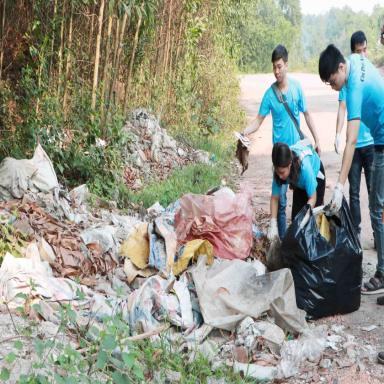plasticbag: (0, 153, 374, 384), (275, 188, 366, 317), (0, 141, 59, 201)
